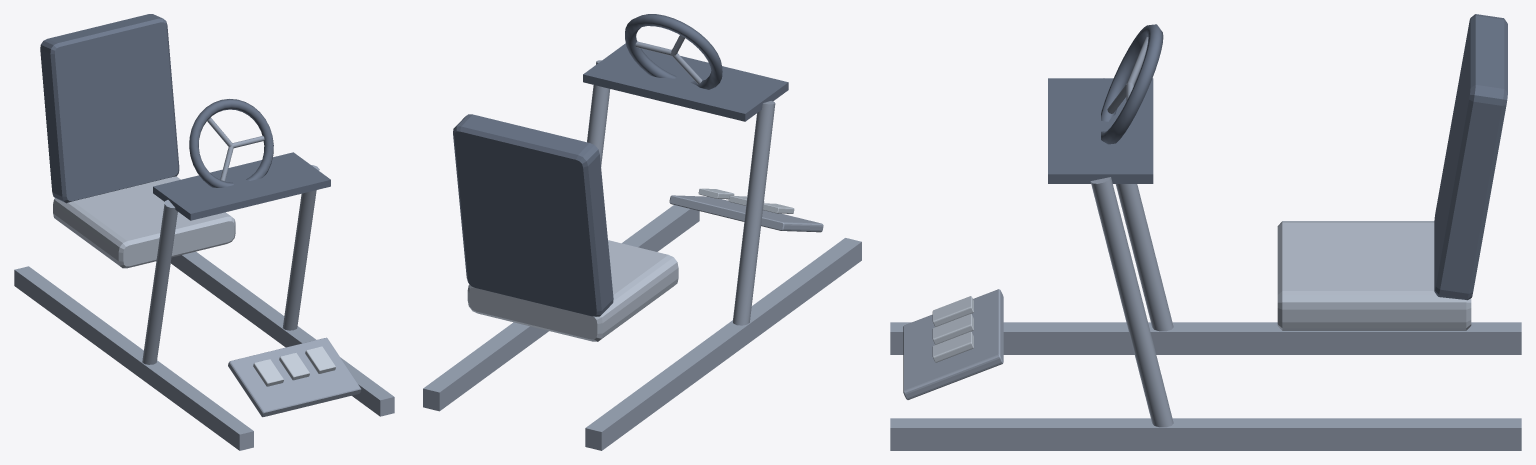
Rendered from racing-cockpit-lite.glb.
3 views of the same model, side by side, from view 1: azimuth 30°, elevation 25°; view 2: azimuth 150°, elevation 25°; view 3: azimuth 270°, elevation 25° (orthographic). The views are drawn at different scales.
Parts seen in each view (by area): view 1: dark, body, soft, light; view 2: dark, body, soft, light; view 3: body, dark, soft, light.
Boxes of the visible parts, box(x1,y1,x2,y2) form: dark: box(40, 14, 330, 220); body: box(14, 117, 394, 450); soft: box(53, 176, 235, 268); light: box(253, 346, 335, 386); dark: box(453, 14, 788, 316); body: box(423, 35, 861, 450); soft: box(467, 240, 678, 341); light: box(698, 188, 794, 213); body: box(890, 36, 1521, 450); dark: box(1048, 14, 1507, 300); soft: box(1277, 221, 1471, 330); light: box(932, 296, 973, 362).
Size of the model in its own units: 0.595 by 0.9623 by 1.5.
